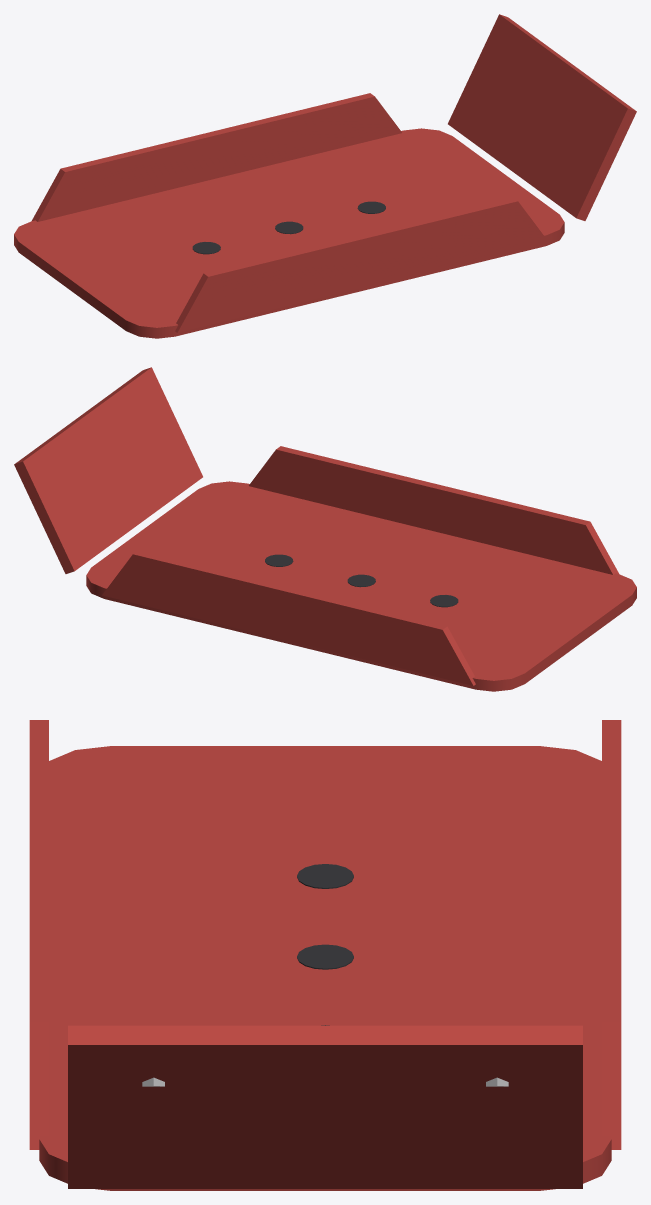
Rendered from plate.glb.
The picture shows the model from 3 angles, top to bottom: view 1: azimuth 30°, elevation 25°; view 2: azimuth 150°, elevation 25°; view 3: azimuth 270°, elevation 25°; orthographic projection. The views are drawn at different scales.
Visible parts, largest first — view 1: plate; view 2: plate; view 3: plate.
Part boxes in pixels (x1,y1,x2,y2): plate: [14, 14, 636, 338]; plate: [14, 367, 636, 691]; plate: [29, 720, 621, 1190].
Bounding box in the file's own units: 0.4844 × 0.1079 × 0.248.
